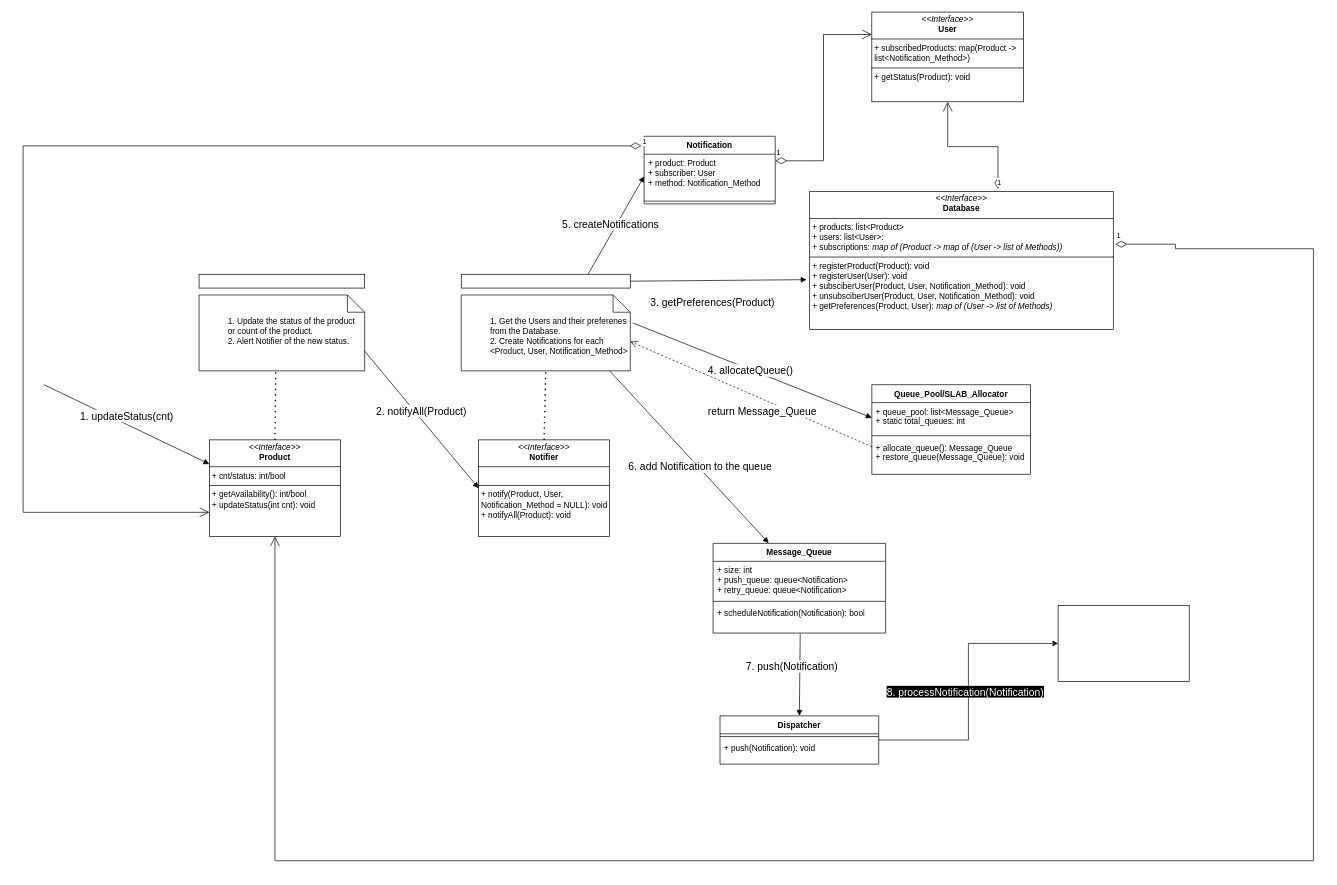
Some shapes in this 1337 by 885 pixel diagram are drawn without their labels. Here are the shapes that lost their labels. From the top down, the centre of each, then its label:
At point (281, 281): "Product::updateStatus(cnt)".
At point (545, 281): "Notifier::notifyAll(Product)".
At point (1123, 643): "<<Interface>> Notification_Method + processNotification(): void".
